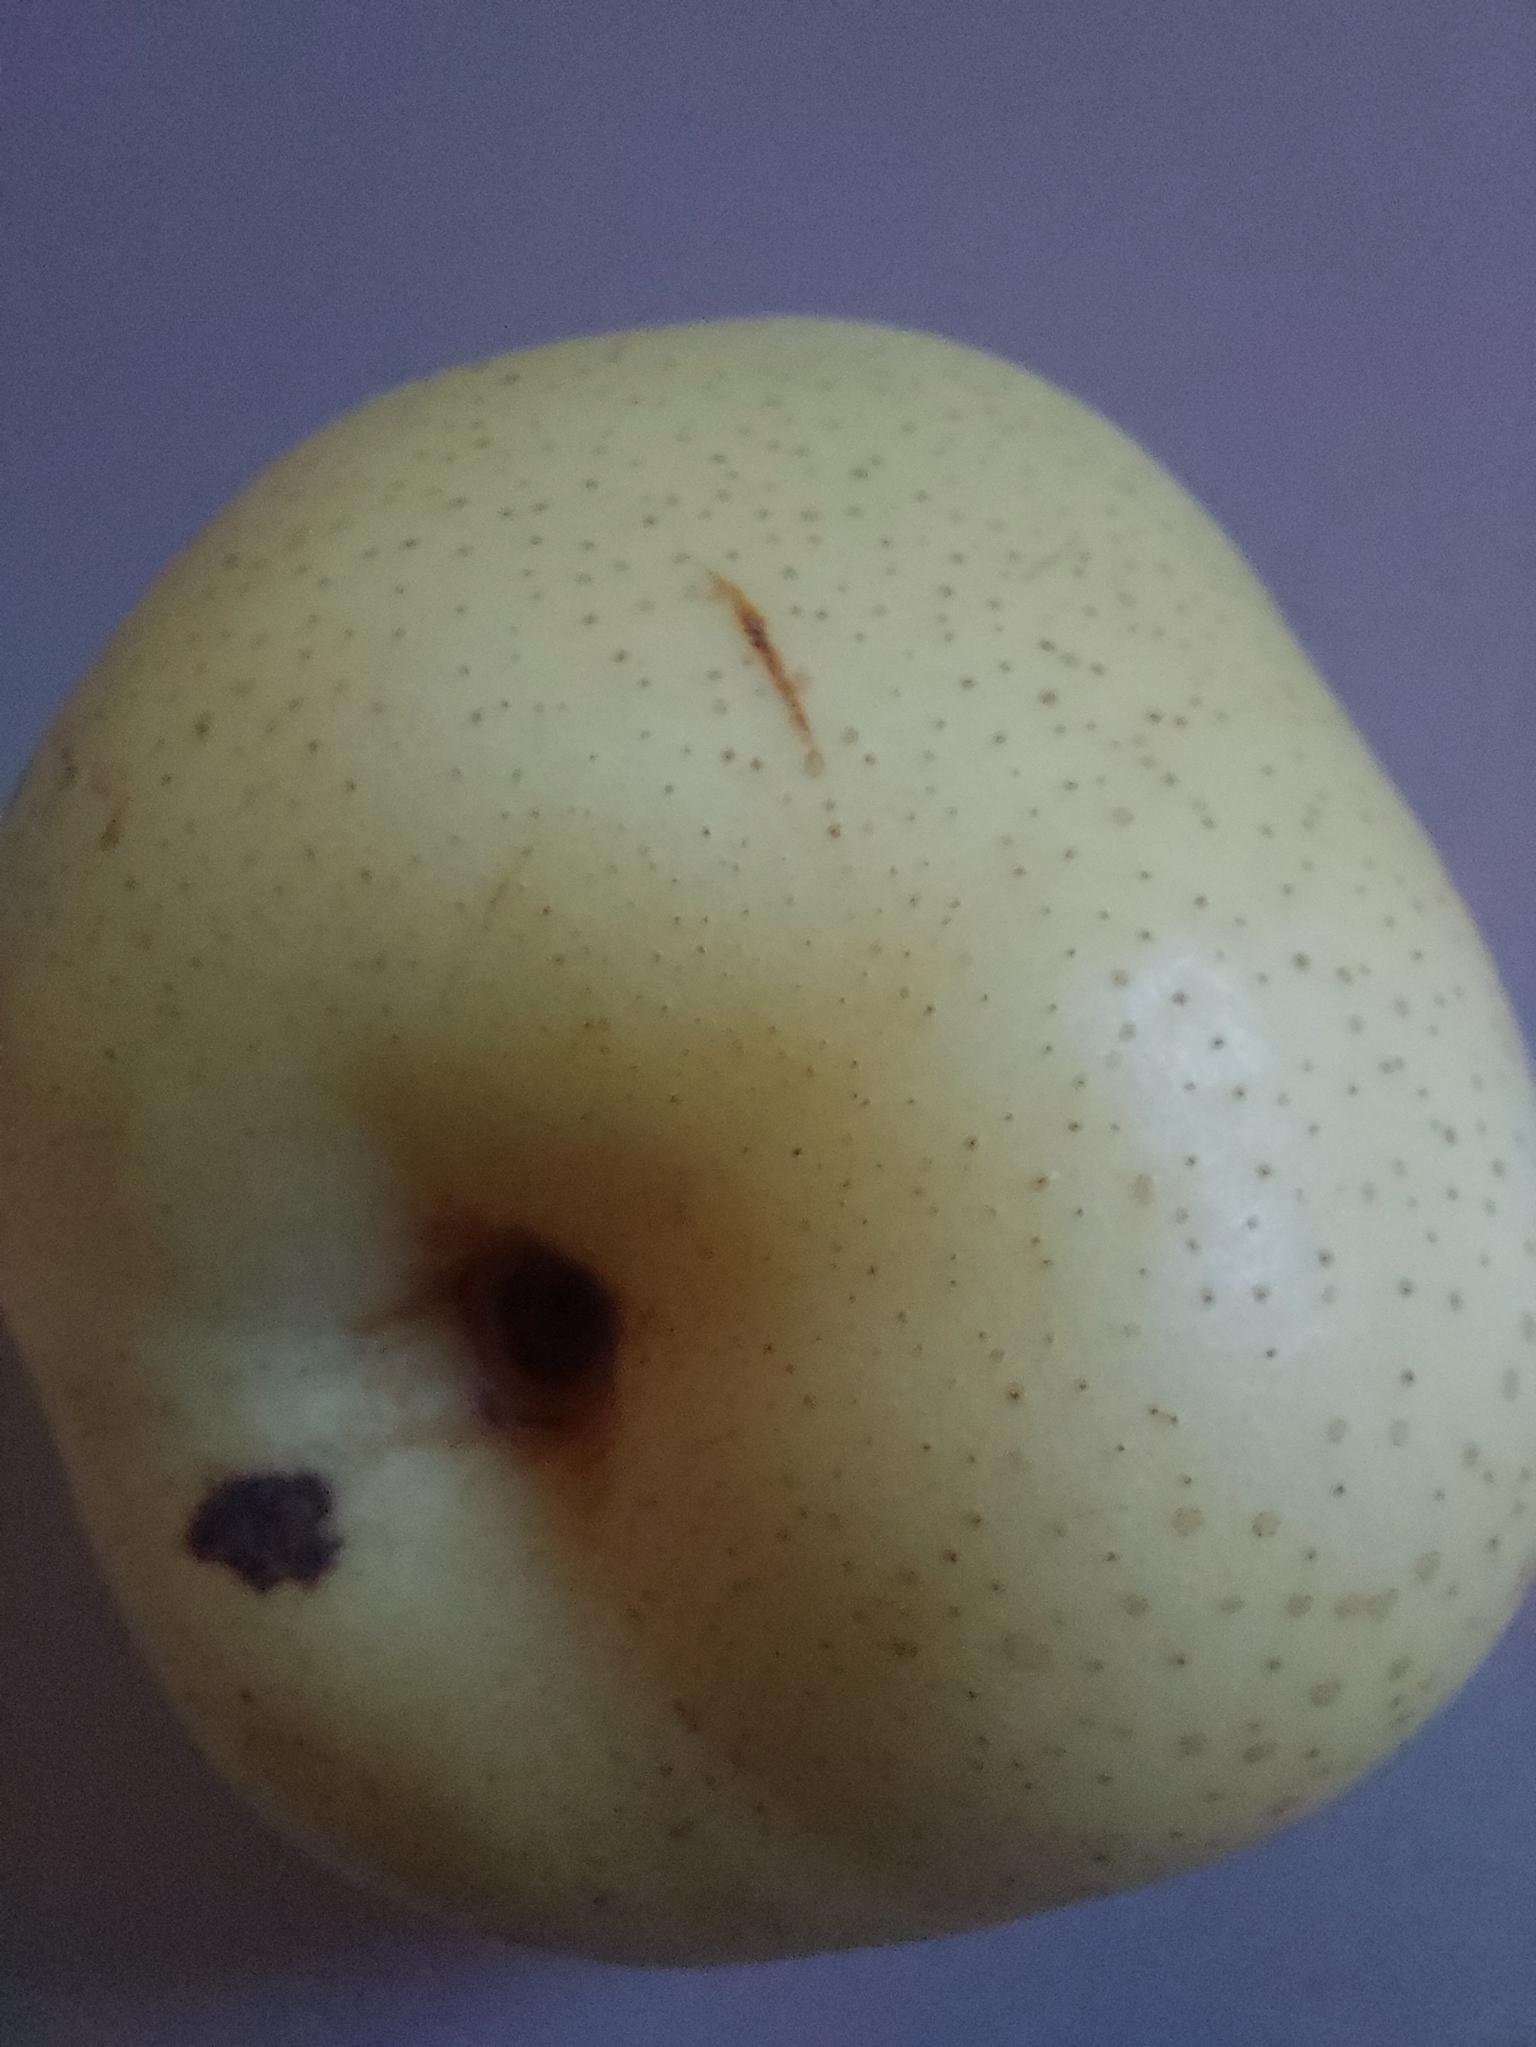Good Pear: (0, 227, 1536, 2015)
